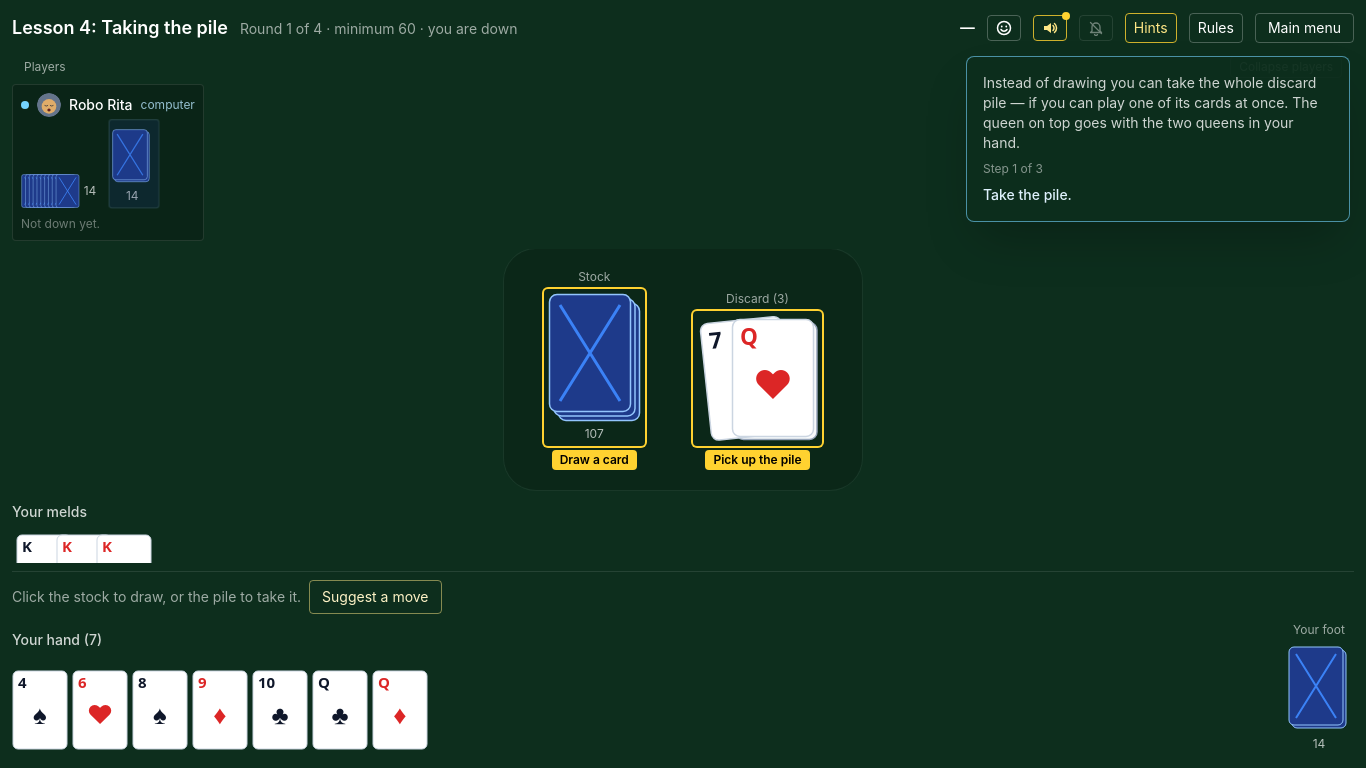
the lessons › refuse a move that is not the one asked for, saying why
This screenshot has width=1366, height=768.
What coordinates should you click on to do the following:
click the button named "draw a card"
I would click on:
 (594, 368)
Its box is [544,289,645,446].
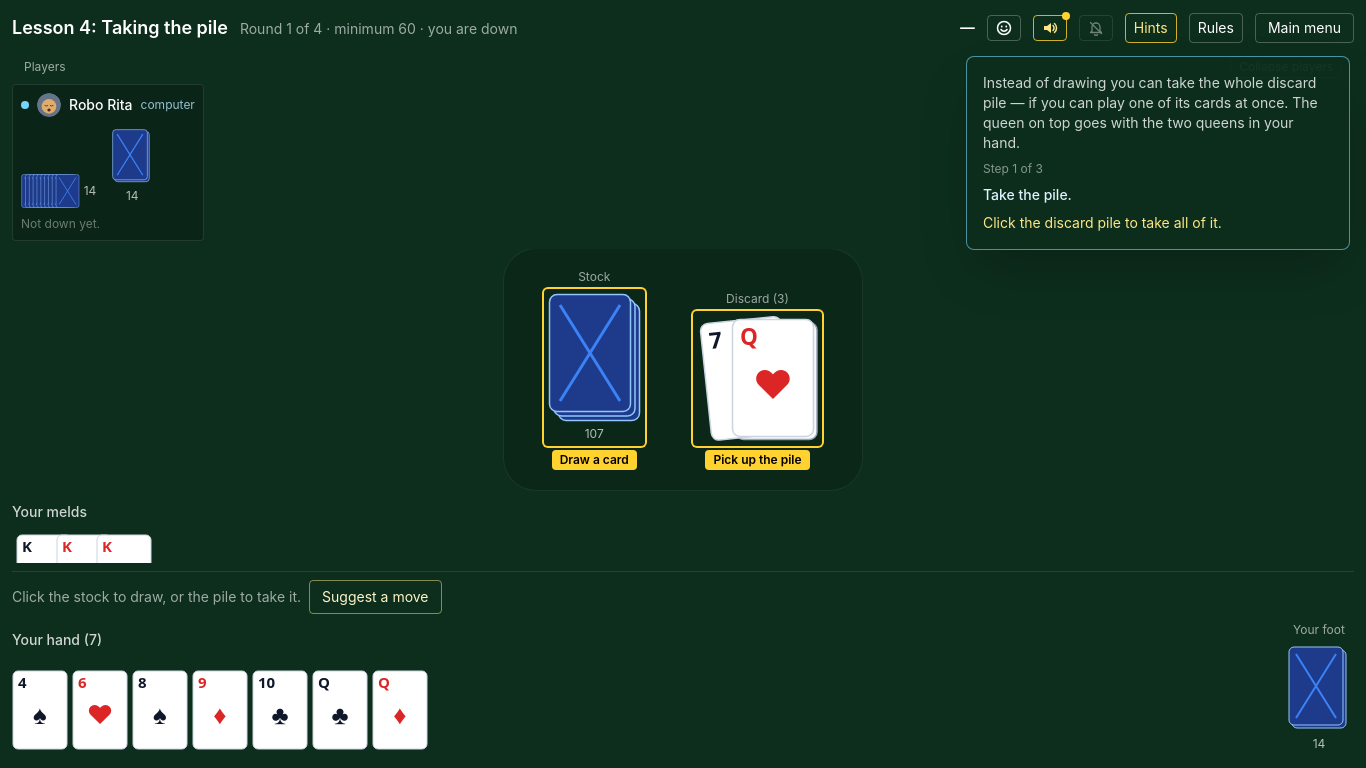
Check: the message reads "Click the discard pile to take all of it.", box [983,214,1222,231]
